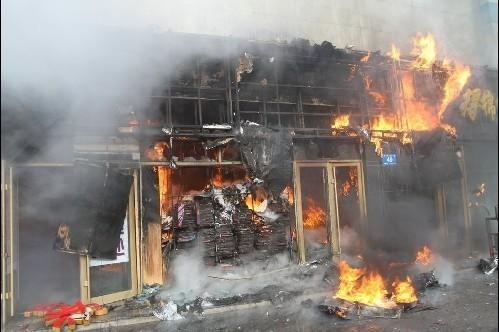fire: (329, 32, 473, 143), (329, 250, 431, 308), (148, 137, 173, 207), (300, 192, 325, 228), (242, 192, 266, 213), (206, 170, 228, 187), (281, 183, 294, 202)
